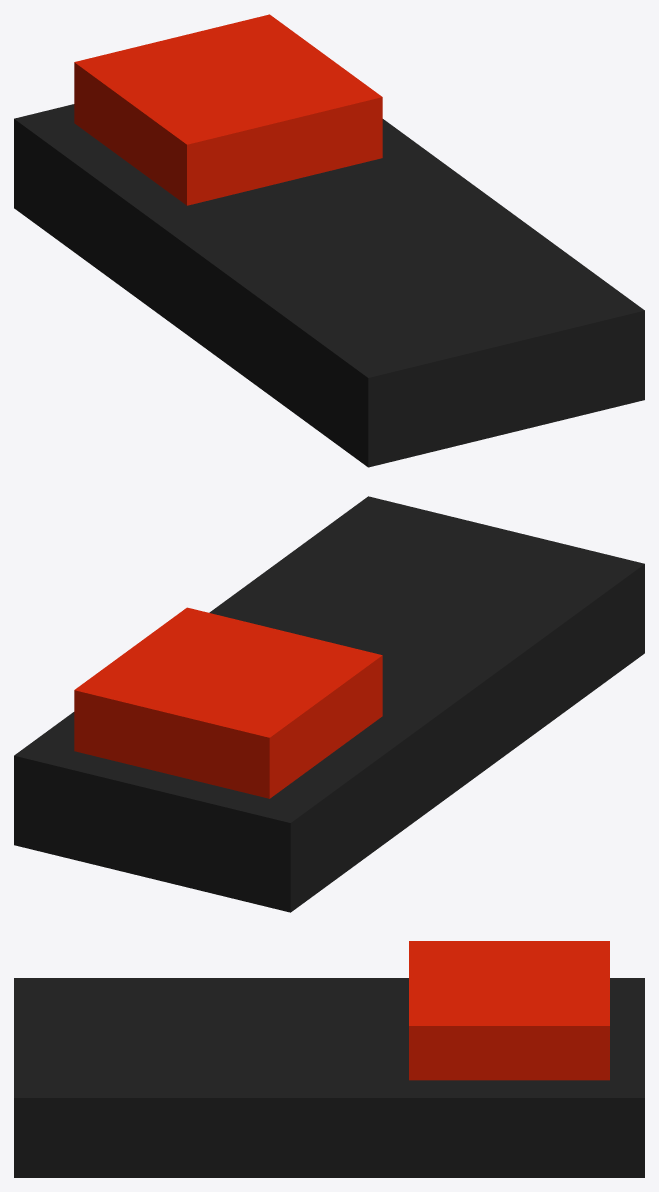
File: tv-remote.glb
3 renders of one model, top to bottom at view 1: azimuth 30°, elevation 25°; view 2: azimuth 150°, elevation 25°; view 3: azimuth 270°, elevation 25°, orthographic. The views are drawn at different scales.
Visible parts, largest first — view 1: remote; view 2: remote; view 3: remote.
Part boxes in pixels (x1,y1,x2,y2): remote: (14,14,644,467); remote: (14,496,644,912); remote: (14,941,644,1177).
Bounding box in the file's own units: 0.1362 × 0.0708 × 0.302.
